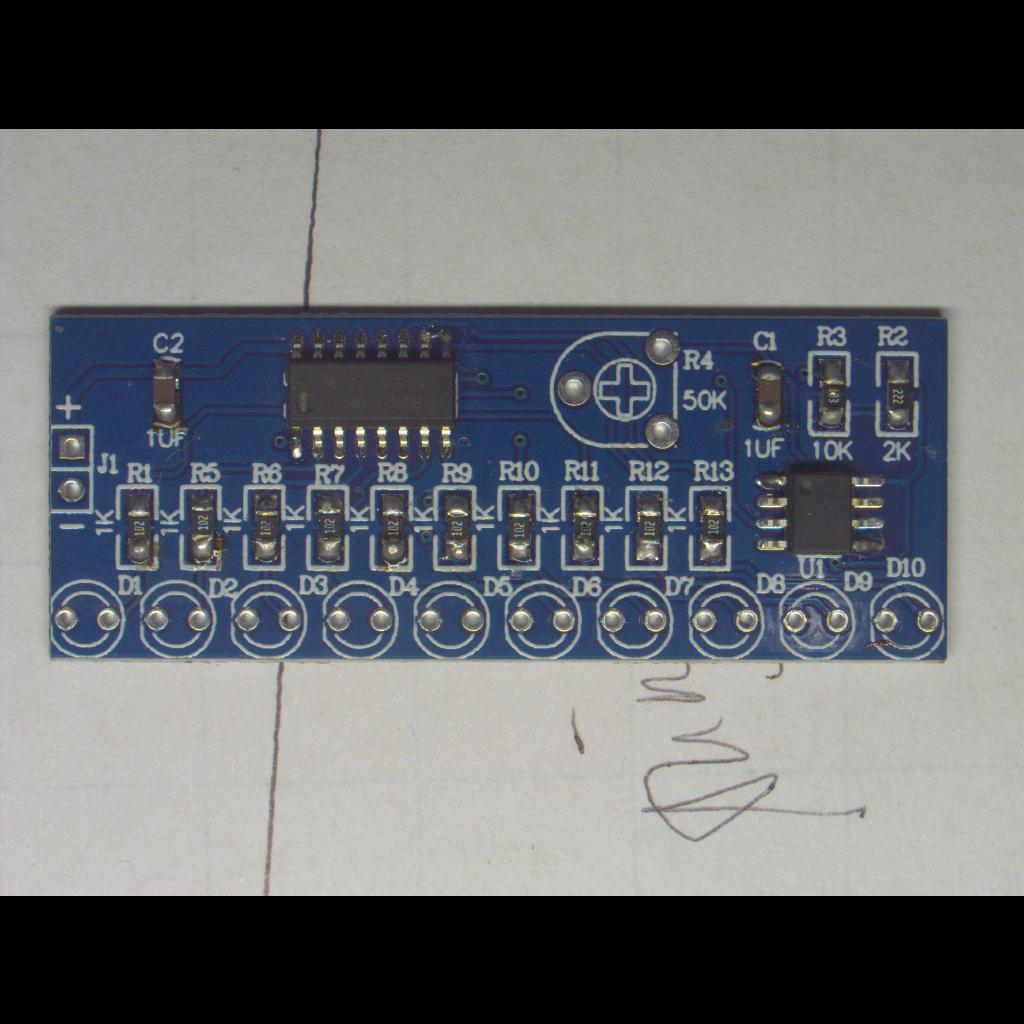OK: (278, 320, 466, 468), (750, 461, 894, 561), (112, 482, 164, 574), (302, 484, 354, 574), (142, 348, 192, 440), (429, 482, 479, 574), (240, 482, 290, 572), (368, 482, 416, 574), (688, 482, 734, 574), (177, 482, 223, 574), (558, 482, 606, 570), (622, 484, 668, 572), (496, 484, 542, 572), (876, 352, 922, 434), (806, 350, 852, 432), (750, 355, 786, 431)
